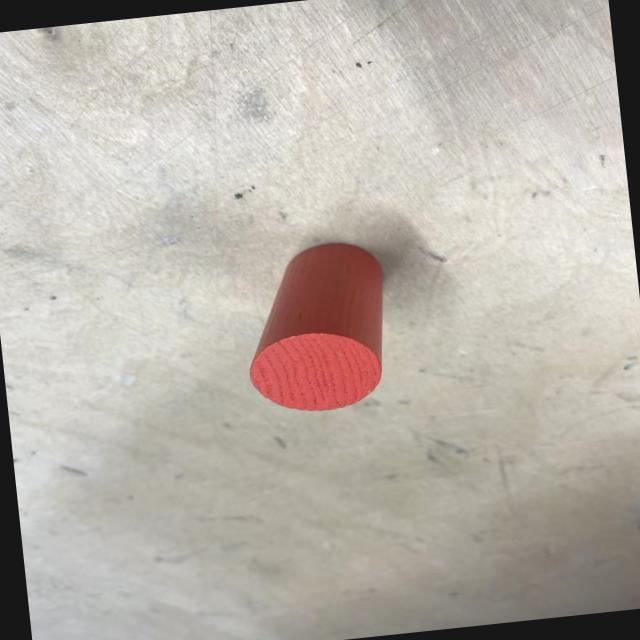red_cylinder: (232, 235, 401, 422)
